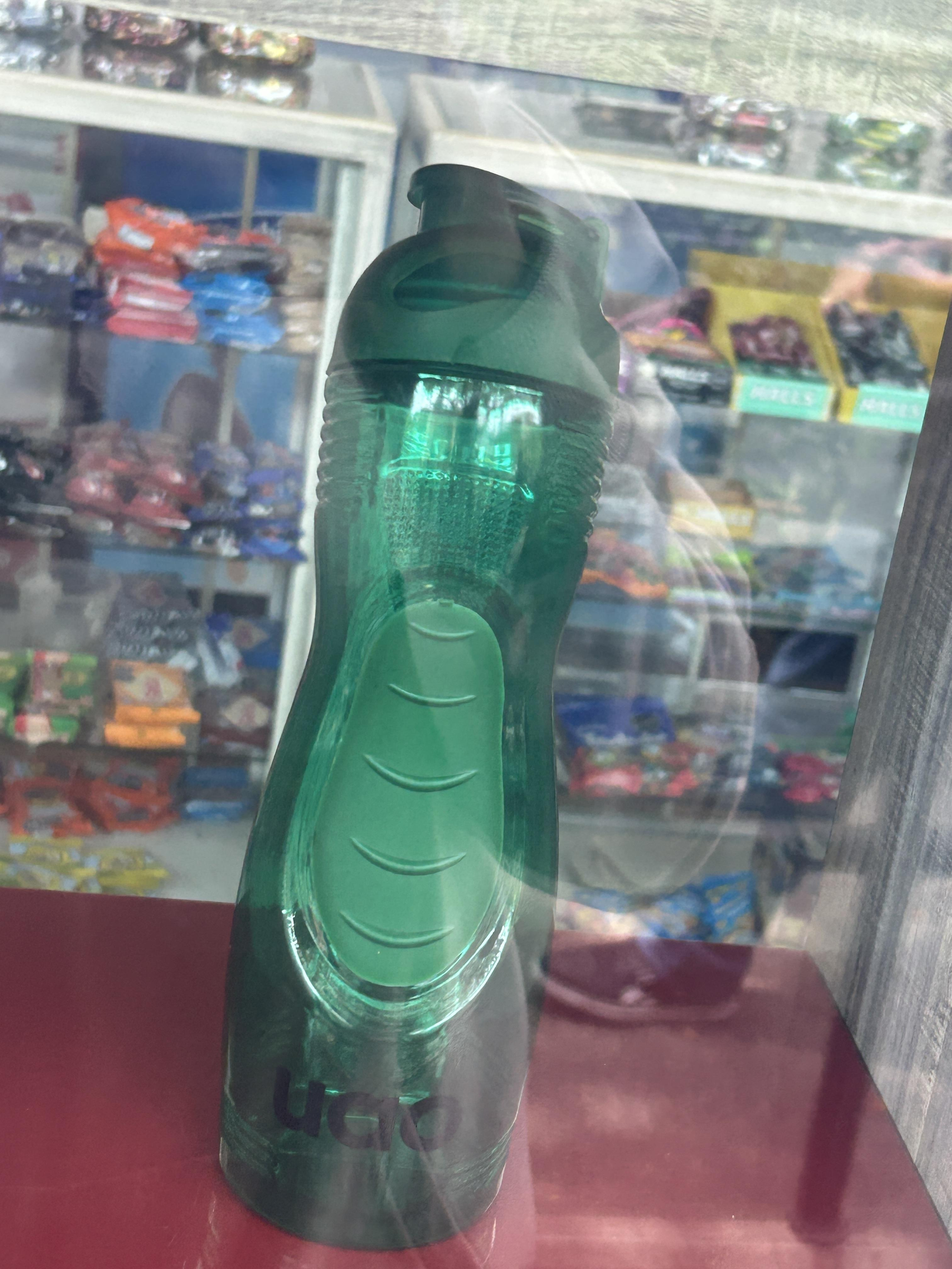termo: (220, 164, 619, 1252)
